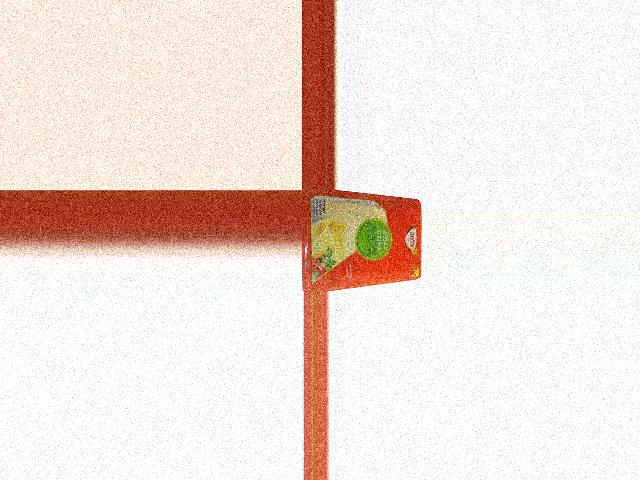cheese: (301, 192, 420, 292)
